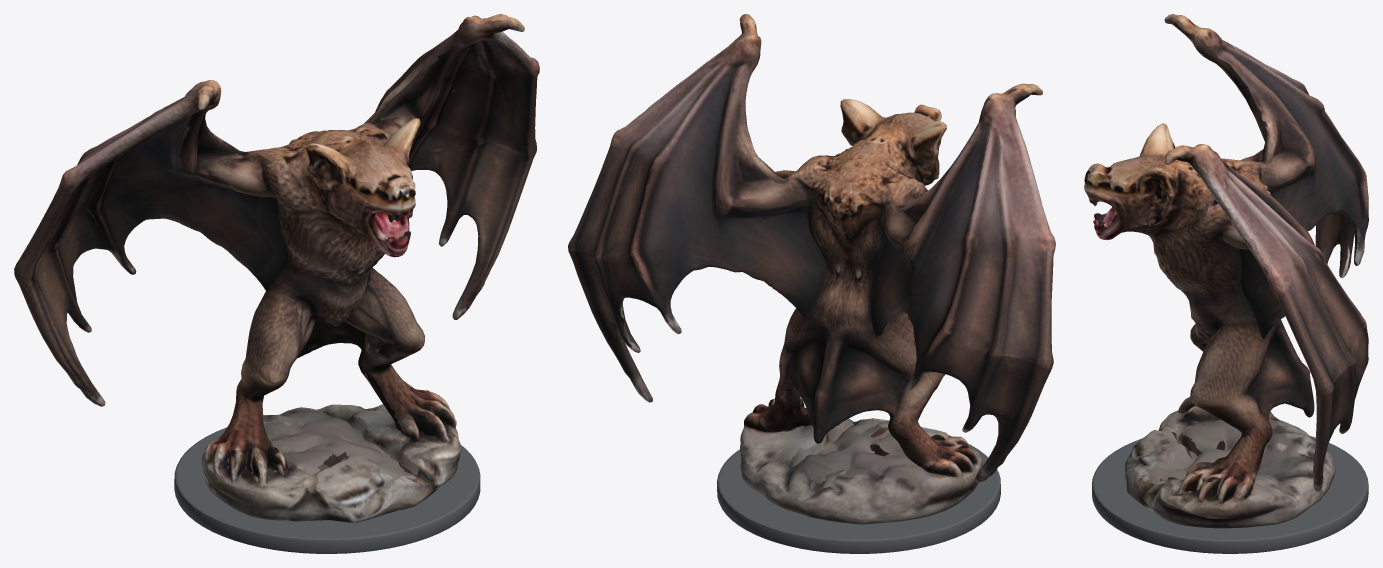
The model's file is giant-bat.glb.
The picture shows the model from 3 angles, left to right: view 1: azimuth 30°, elevation 25°; view 2: azimuth 150°, elevation 25°; view 3: azimuth 270°, elevation 25°; orthographic projection. The views are drawn at different scales.
Parts seen in each view (by area): view 1: giant-bat_body, giant-bat_round_base; view 2: giant-bat_body, giant-bat_round_base; view 3: giant-bat_body, giant-bat_round_base.
Boxes of the visible parts, left/top/right/bottom form: giant-bat_body: left=14, top=14, right=539, bottom=522; giant-bat_round_base: left=174, top=414, right=480, bottom=553; giant-bat_body: left=568, top=14, right=1055, bottom=524; giant-bat_round_base: left=717, top=421, right=1000, bottom=553; giant-bat_body: left=1084, top=14, right=1368, bottom=528; giant-bat_round_base: left=1092, top=435, right=1368, bottom=553.
Size of the model in its own units: 1.96 by 1.65 by 1.03.
Materials: 2 (1 with a texture image).
